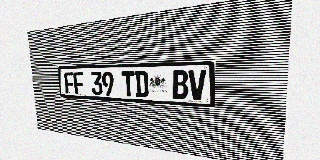3: (91, 72, 103, 95)
9: (102, 71, 114, 96)
B: (172, 70, 188, 100)
D: (134, 71, 149, 98)
F: (64, 72, 75, 94), (73, 72, 84, 94)
T: (122, 71, 135, 97)
V: (189, 70, 206, 100)
